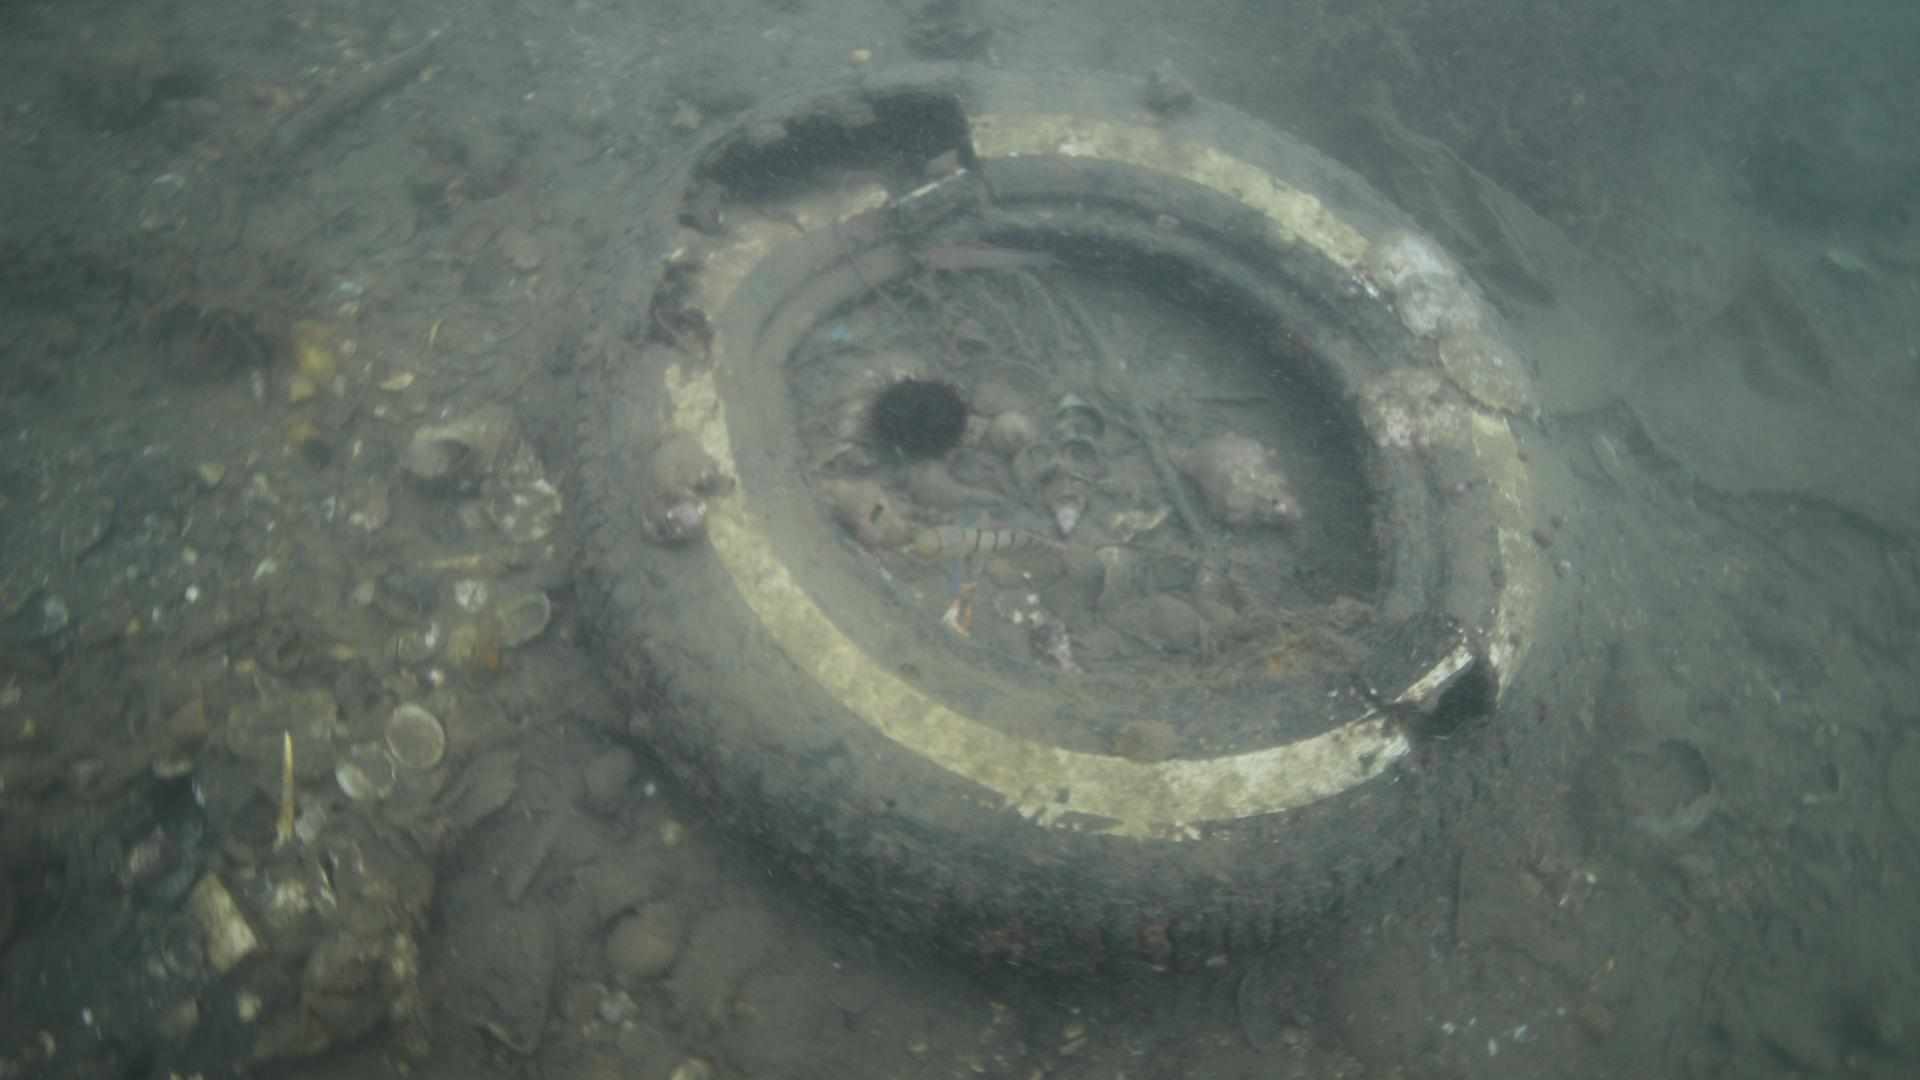tire: (567, 57, 1582, 978)
